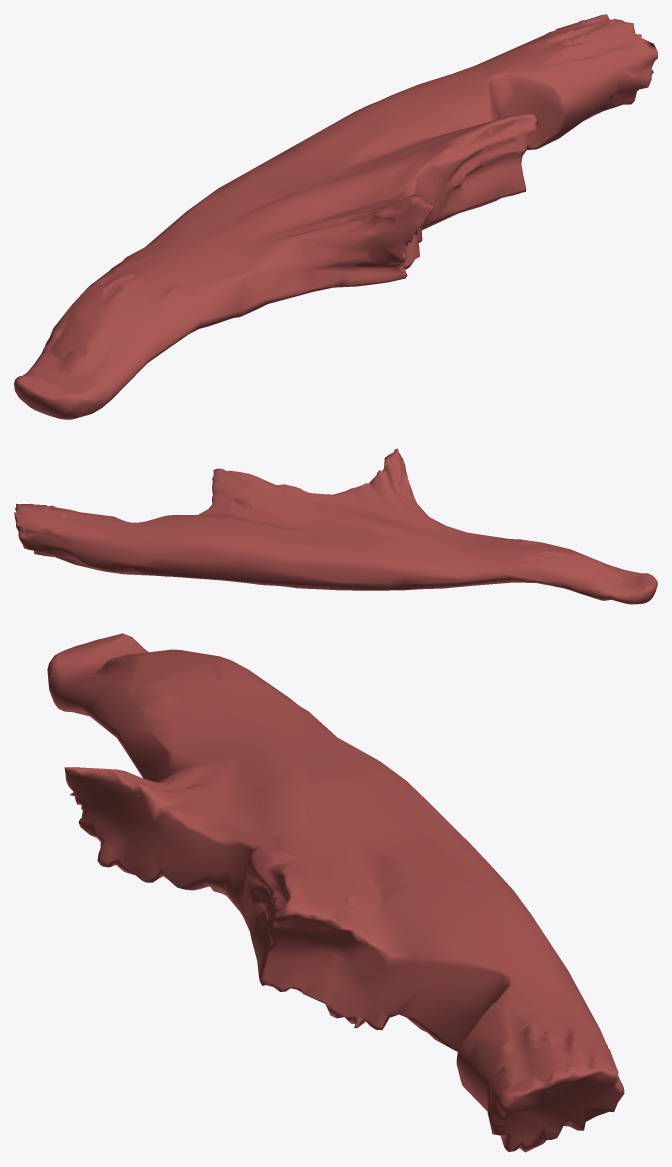
Rendered from FMA46021.glb.
The picture shows the model from 3 angles, top to bottom: view 1: azimuth 30°, elevation 25°; view 2: azimuth 150°, elevation 25°; view 3: azimuth 270°, elevation 25°; orthographic projection. The views are drawn at different scales.
Parts seen in each view (by area): view 1: FMA46021; view 2: FMA46021; view 3: FMA46021.
Part boxes in pixels (x1,y1,x2,y2): FMA46021: (14,14,657,419); FMA46021: (14,448,657,604); FMA46021: (47,633,624,1152).
Bounding box in the file's own units: 0.0464 × 0.00706 × 0.0218.
